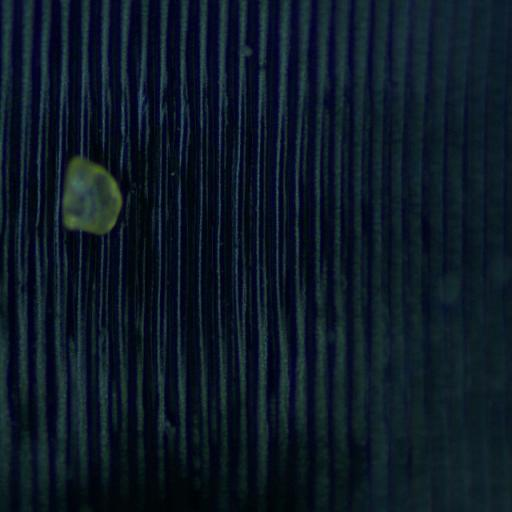mineral: (62, 157, 122, 234)
